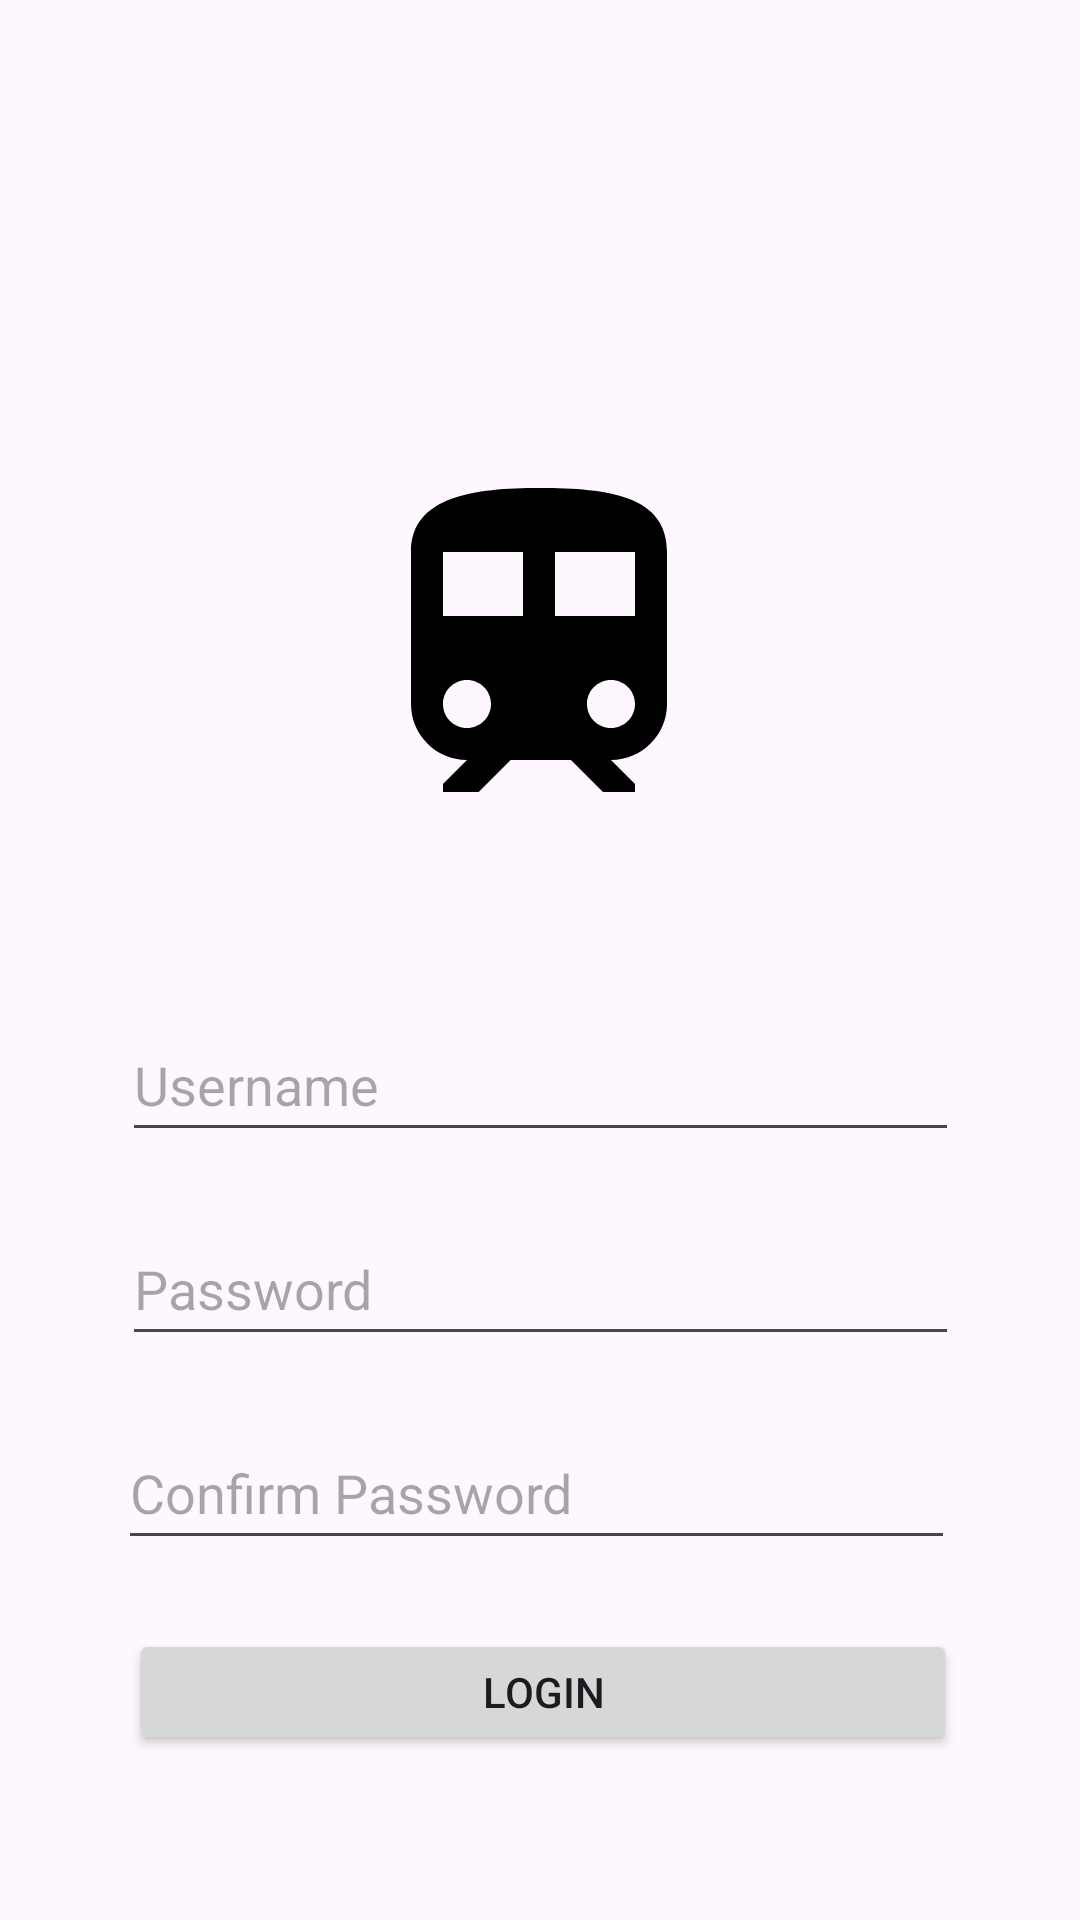

Where to tap for icons on this 1080px x 1920px app screen, as point (x, y):
train: point (539, 640)
